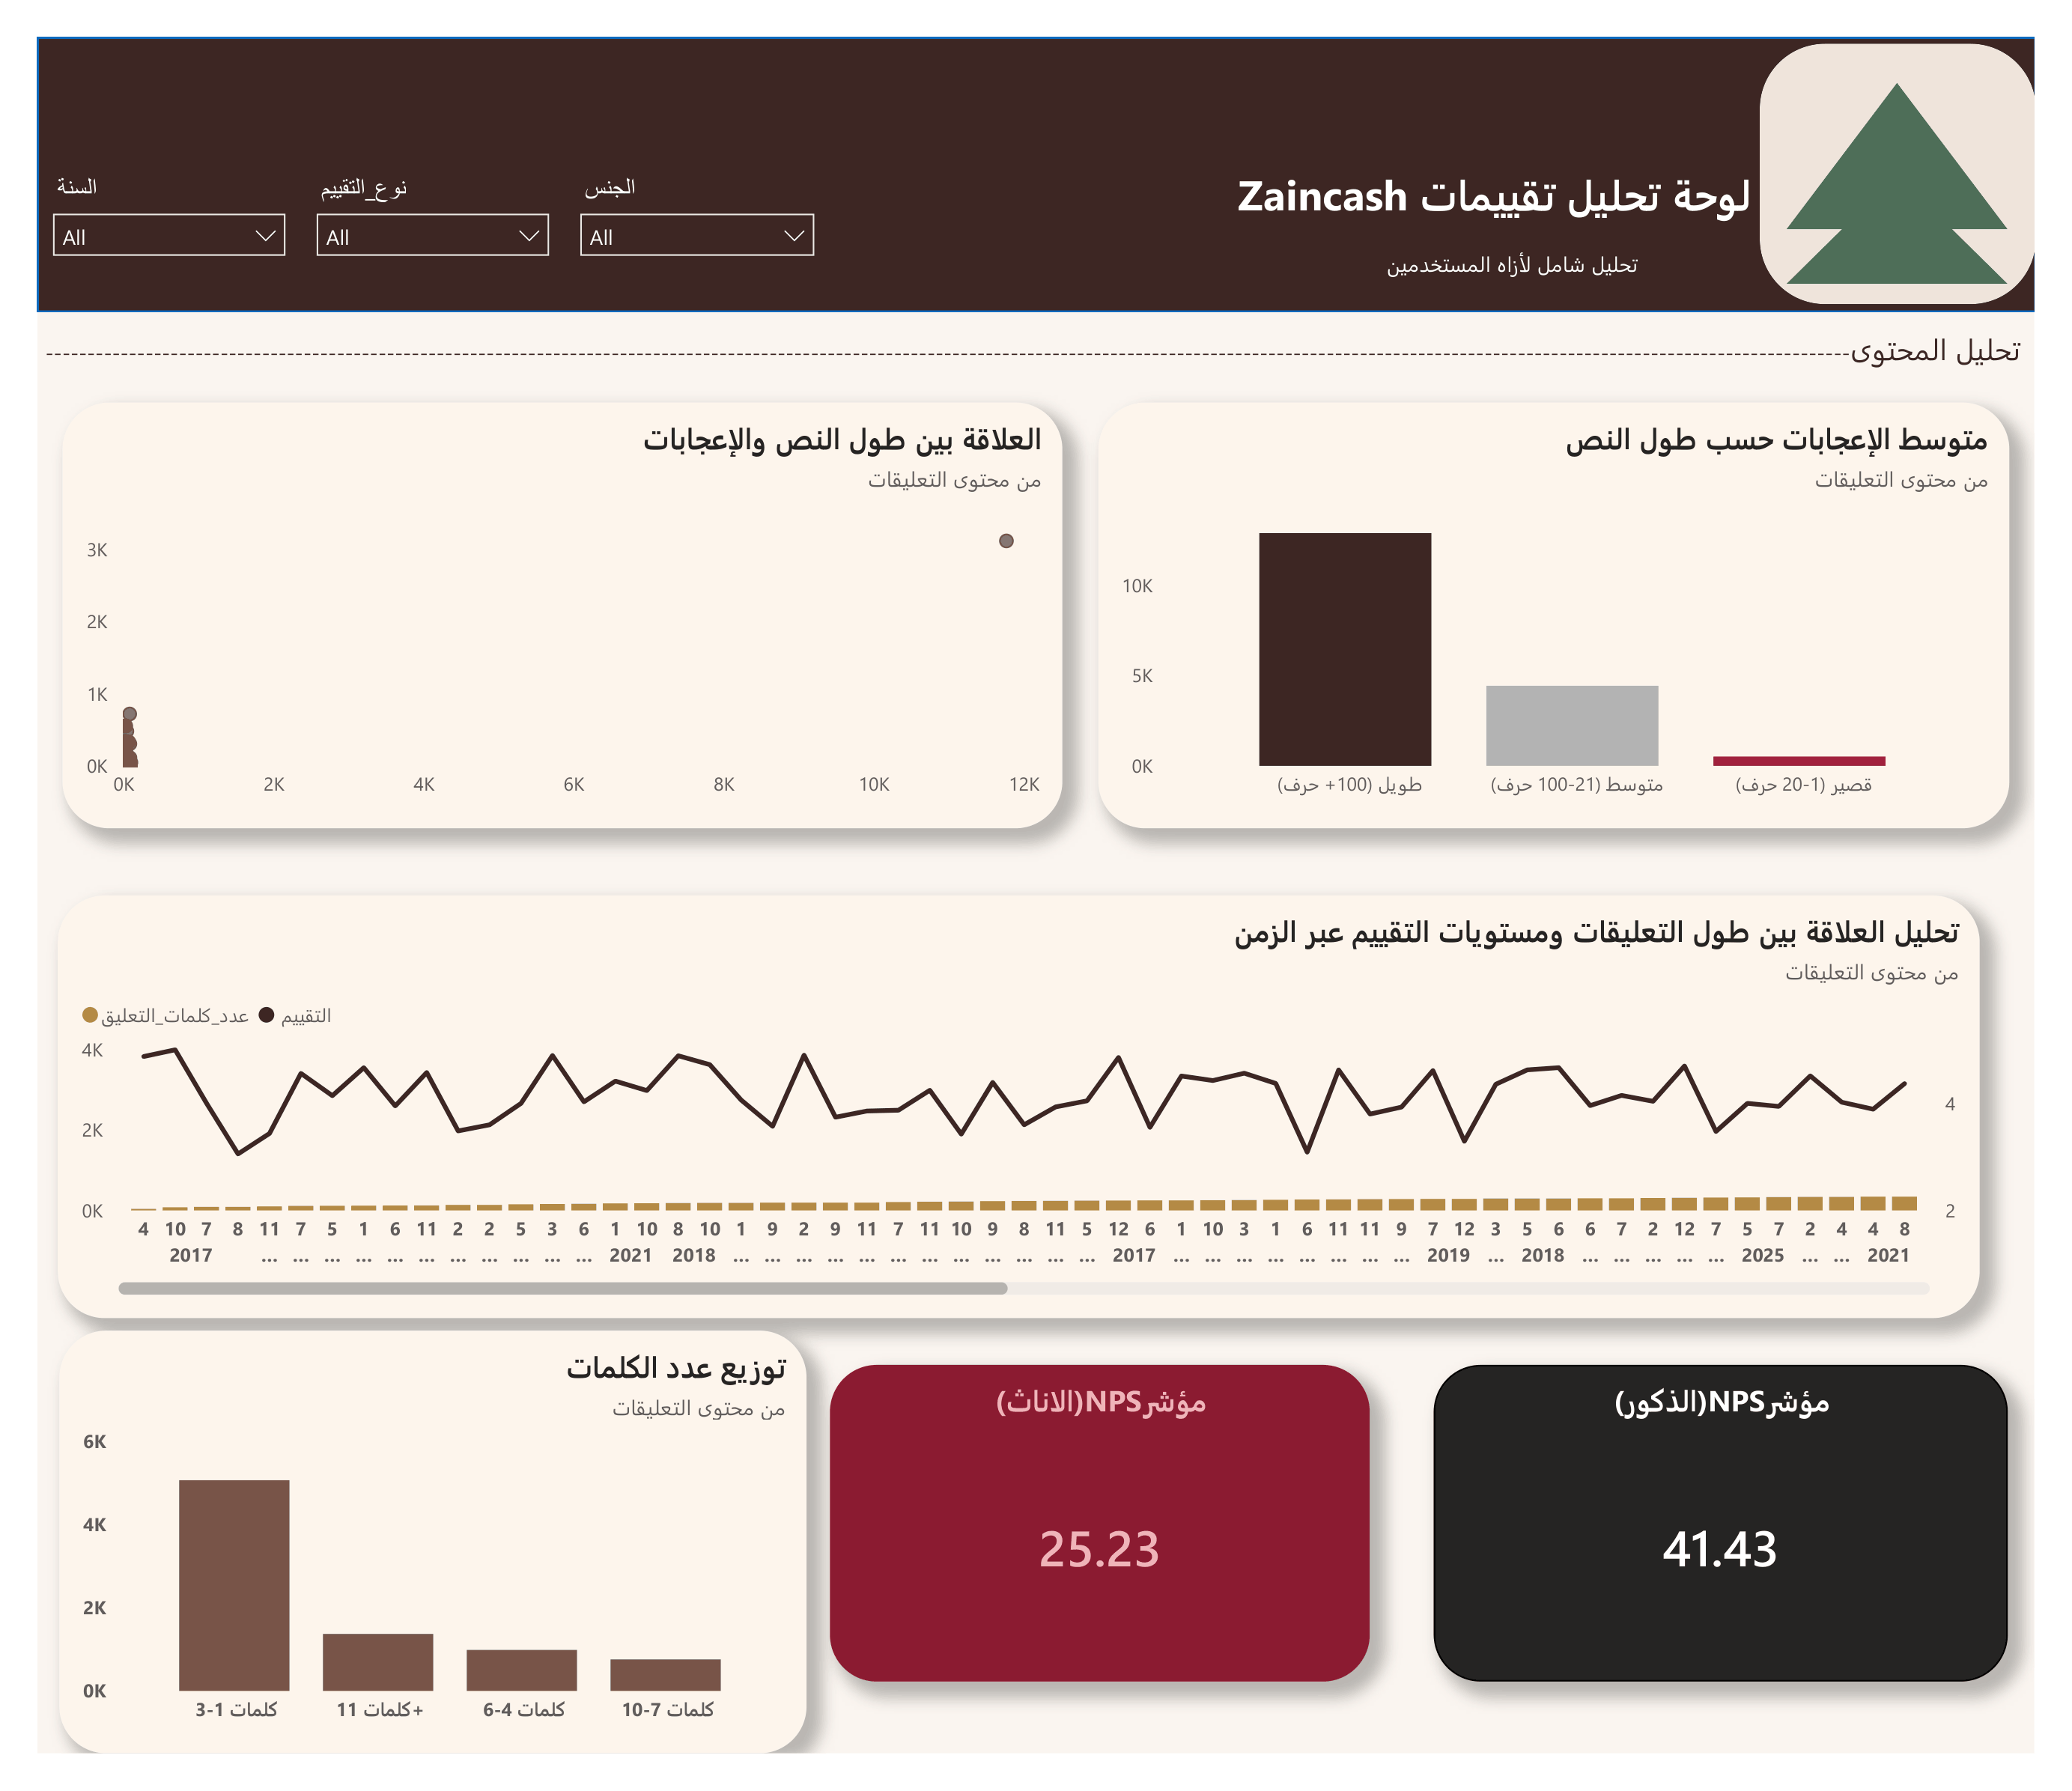

What the dashboard file says about the page in this screenshot:
{"tool":"powerbi","page":{"name":"Page 4","canvas":[1280,1100],"ordinal":3},"visuals":[{"type":"shape","box":[0,0,1280.8,176],"z":0},{"type":"shape","box":[1103.8,3.8,176.9,167.3],"z":1000},{"type":"shape","box":[1121.2,88.5,142.3,70],"z":2000},{"type":"shape","box":[1121.2,28.8,142.3,94.2],"z":3000},{"type":"textbox","box":[746.2,76.9,357.7,80.8],"z":4000},{"type":"textbox","box":[853.8,130.8,176.9,51.9],"z":5000},{"type":"slicer","fields":{"Values":["zaincash_reviews_with_analysis.السنة"]},"box":[0,82.7,169.2,94.2],"z":6000},{"type":"slicer","fields":{"Values":["zaincash_reviews_with_analysis.نوع_التقييم"]},"box":[169.2,82.7,169.2,94.2],"z":7000},{"type":"slicer","fields":{"Values":["zaincash_reviews_with_analysis.الجنس"]},"box":[338.5,82.7,169.2,94.2],"z":8000},{"type":"textbox","box":[0,182.1,1280.4,51.8],"z":8001},{"type":"scatterChart","title":"العلاقة بين طول النص والإعجابات","fields":{"Category":["zaincash_reviews_with_analysis.الاسم"],"Y":["Sum(zaincash_reviews_with_analysis.الإعجابات)"],"X":["Sum(zaincash_reviews_with_analysis.عدد_كلمات_التعليق)"]},"box":[16.1,233.9,641.1,273.2],"z":8002},{"type":"clusteredColumnChart","title":"متوسط الإعجابات حسب طول النص","fields":{"Y":["Sum(zaincash_reviews_with_analysis.الإعجابات)"],"Category":["zaincash_reviews_with_analysis.فئة طول النص"]},"box":[680.4,233.9,583.9,273.2],"z":8003},{"type":"lineClusteredColumnComboChart","title":"تحليل العلاقة بين طول التعليقات ومستويات التقييم عبر الزمن","fields":{"Category":["zaincash_reviews_with_analysis.السنة","zaincash_reviews_with_analysis.الشهر"],"Y":["Sum(zaincash_reviews_with_analysis.عدد_كلمات_التعليق)"],"Y2":["Avg(zaincash_reviews_with_analysis.التقييم)"]},"box":[13.2,550,1232,270.6],"z":8004},{"type":"columnChart","title":"توزيع عدد الكلمات","fields":{"Category":["zaincash_reviews_with_analysis.فئة عدد الكلمات"],"Y":["zaincash_reviews_with_analysis.إجمالي التقييمات"]},"box":[14.3,828.6,478.6,271.4],"z":8005},{"type":"cardVisual","title":"(الاناث)NPSمؤشر ","fields":{"Data":["zaincash_reviews_with_analysis.NPS مؤشر (الإناث)"]},"box":[508.2,851.4,345.4,202.4],"z":8006},{"type":"cardVisual","title":"(الذكور)NPSمؤشر ","fields":{"Data":["zaincash_reviews_with_analysis.NPS مؤشر (الذكور)"]},"box":[895.4,851.4,367.4,202.4],"z":8007}]}

Visuals, with their boxes on the page's 1280x1100 design canvas (x1, y1, x2, y2). These are canvas units, not pixel positions in the 2072x1791 screenshot, which may show the page scaled, cropped or inside an application window:
shape: detection(0, 0, 1281, 176)
shape: detection(1104, 4, 1281, 171)
shape: detection(1121, 88, 1264, 158)
shape: detection(1121, 29, 1264, 123)
textbox: detection(746, 77, 1104, 158)
textbox: detection(854, 131, 1031, 183)
slicer - zaincash_reviews_with_analysis.السنة: detection(0, 83, 169, 177)
slicer - zaincash_reviews_with_analysis.نوع_التقييم: detection(169, 83, 338, 177)
slicer - zaincash_reviews_with_analysis.الجنس: detection(338, 83, 508, 177)
textbox: detection(0, 182, 1280, 234)
"العلاقة بين طول النص والإعجابات" scatterChart: detection(16, 234, 657, 507)
"متوسط الإعجابات حسب طول النص" clusteredColumnChart: detection(680, 234, 1264, 507)
"تحليل العلاقة بين طول التعليقات ومستويات التقييم عبر الزمن" lineClusteredColumnComboChart: detection(13, 550, 1245, 821)
"توزيع عدد الكلمات" columnChart: detection(14, 829, 493, 1100)
"(الاناث)NPSمؤشر " cardVisual: detection(508, 851, 854, 1054)
"(الذكور)NPSمؤشر " cardVisual: detection(895, 851, 1263, 1054)
